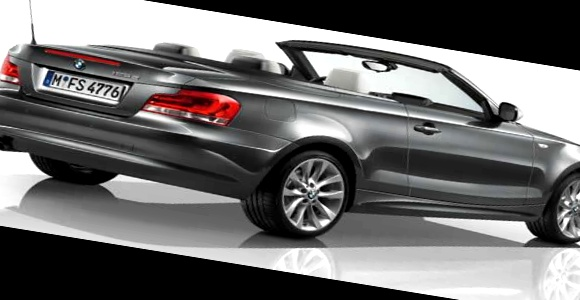car: (0, 0, 580, 293)
